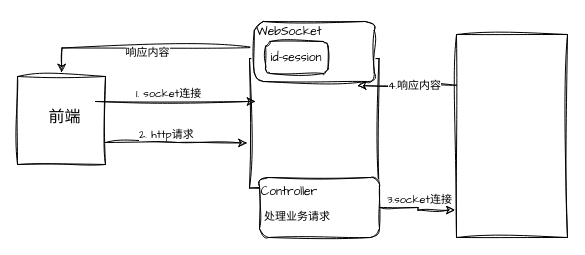
The diagram is 585 pixels wide and 255 high, and some of its shapes have lost their labels. The box of each missing label's shape, as (x1, y1, x2, y2) in pixels:
后端服务器: (248, 58, 379, 188)
星火服务器: (456, 34, 568, 238)
